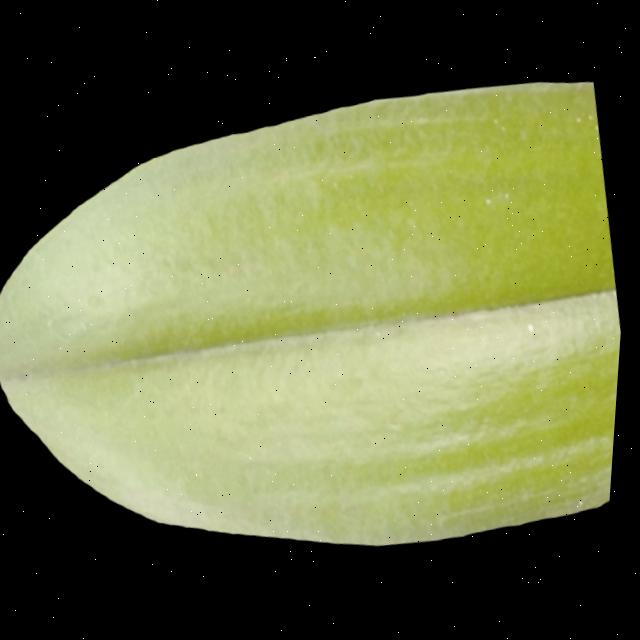mite: (477, 176, 521, 207), (521, 307, 548, 332), (483, 181, 515, 200), (489, 105, 510, 128), (572, 101, 596, 119), (88, 290, 110, 308), (528, 313, 541, 325), (484, 187, 496, 199), (581, 487, 593, 499), (502, 183, 513, 193), (574, 105, 584, 116), (491, 108, 502, 118), (586, 103, 596, 113), (582, 489, 590, 497)
spots: (0, 63, 624, 586)
